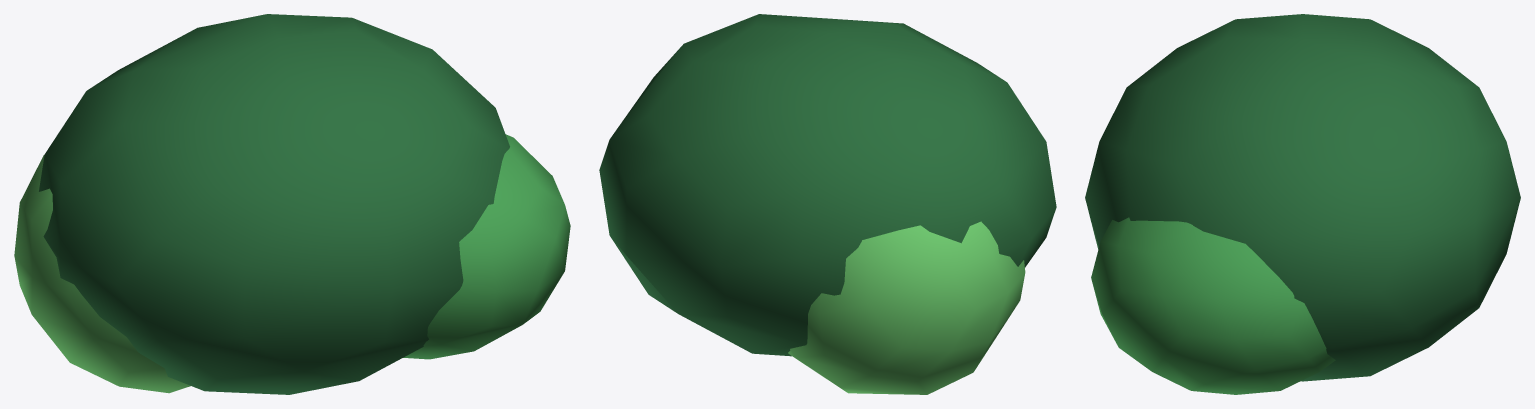
The model's file is plant_bush.glb.
3 views of the same model, side by side, from view 1: azimuth 30°, elevation 25°; view 2: azimuth 150°, elevation 25°; view 3: azimuth 270°, elevation 25° (orthographic). The views are drawn at different scales.
Parts seen in each view (by area): view 1: Kenney_Plant_Bush; view 2: Kenney_Plant_Bush; view 3: Kenney_Plant_Bush.
Boxes of the visible parts, box(x1,y1,x2,y2) form: Kenney_Plant_Bush: box(14, 14, 570, 394); Kenney_Plant_Bush: box(599, 14, 1056, 394); Kenney_Plant_Bush: box(1085, 14, 1520, 394).
Bounding box in the file's own units: 1.5 × 1.06 × 1.3.
